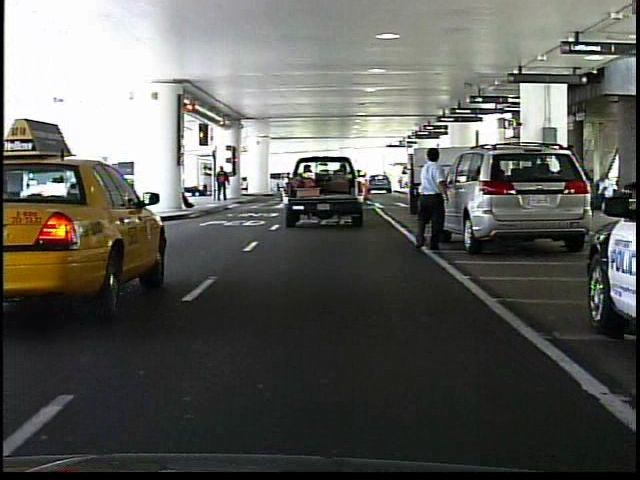person: (406, 145, 455, 255), (214, 163, 233, 204)
